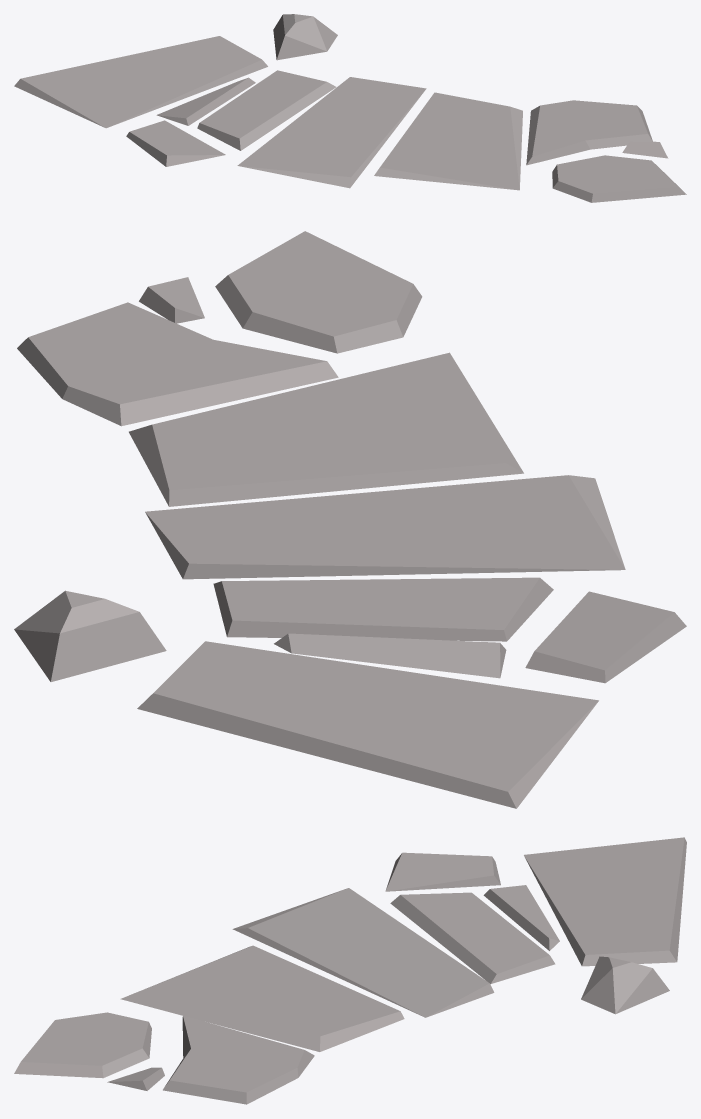
The model's file is Path_Stepping_Stone_Env_01.glb.
The picture shows the model from 3 angles, top to bottom: view 1: azimuth 30°, elevation 25°; view 2: azimuth 150°, elevation 25°; view 3: azimuth 270°, elevation 25°; orthographic projection. The views are drawn at different scales.
Parts seen in each view (by area): view 1: Path_Stepping_Stone_Env_01; view 2: Path_Stepping_Stone_Env_01; view 3: Path_Stepping_Stone_Env_01.
Boxes of the visible parts, left/top/right/bottom form: Path_Stepping_Stone_Env_01: left=14, top=14, right=686, bottom=202; Path_Stepping_Stone_Env_01: left=14, top=231, right=686, bottom=808; Path_Stepping_Stone_Env_01: left=14, top=837, right=686, bottom=1104.
Bounding box in the file's own units: 7.3 × 0.4199 × 7.92.
Materials: 1 (1 with a texture image).
